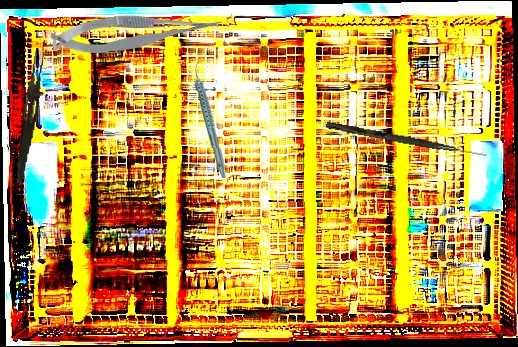Dressing Forceps: (13, 50, 46, 185)
Handpiece: (193, 60, 228, 179)
Hook Surgical: (325, 121, 488, 159)
Micro Scissor: (49, 12, 224, 56)
